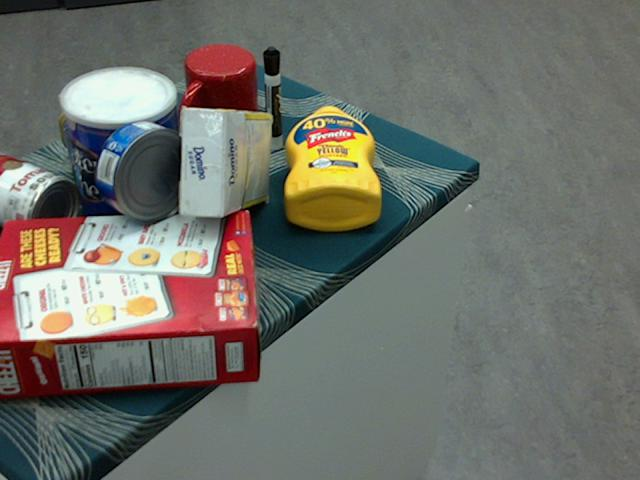cracker_box: (0, 210, 259, 395)
large_marker: (263, 46, 281, 151)
master_chef_can: (61, 69, 183, 249)
mug: (176, 45, 262, 142)
mustard_bottle: (285, 104, 382, 230)
potted_meat_can: (59, 100, 167, 189)
sugar_box: (180, 109, 269, 219)
tomato_soup_can: (0, 149, 78, 243)
tuna_fish_can: (94, 120, 195, 222)
